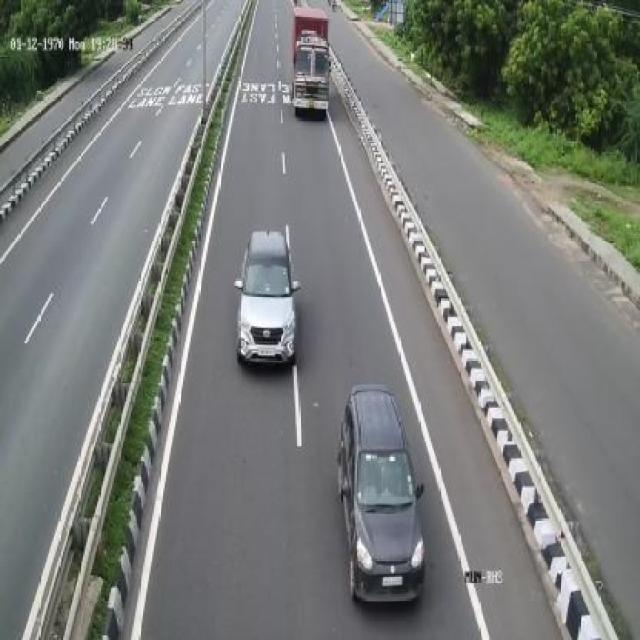car: (335, 375, 428, 614), (235, 220, 300, 375)
